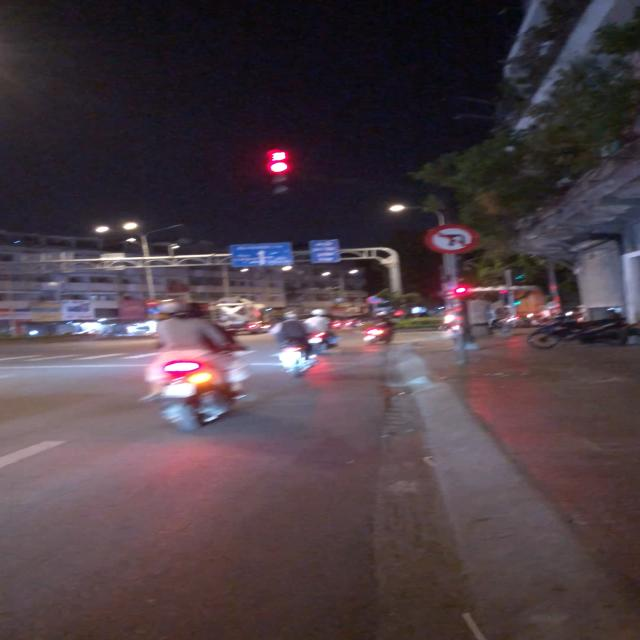Bien bao cam re trai va quay dau: (422, 222, 481, 254)
